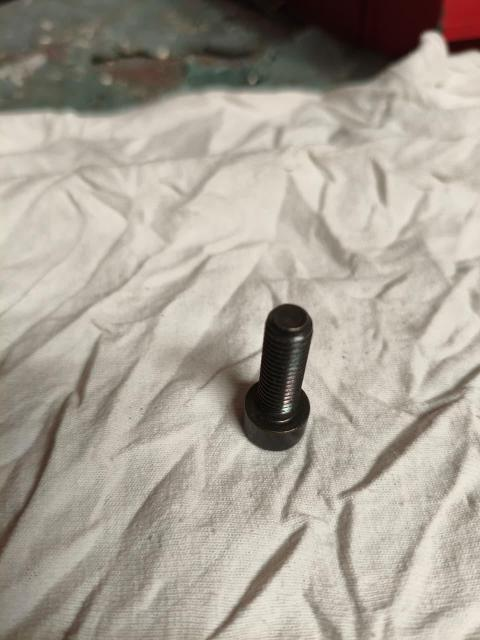Metal: (237, 300, 327, 460)
